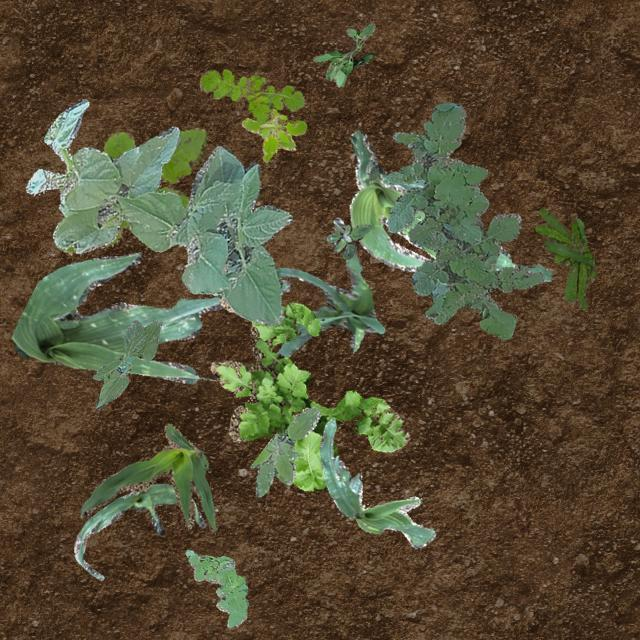crop: (25, 98, 292, 324), (11, 252, 290, 382), (348, 128, 550, 280), (318, 417, 434, 548), (276, 216, 384, 356), (78, 422, 218, 530), (72, 482, 204, 578), (91, 318, 160, 409)
weed: (210, 298, 408, 490), (386, 102, 544, 338), (54, 126, 206, 254), (248, 406, 320, 496), (534, 208, 596, 308), (200, 68, 304, 124), (185, 548, 248, 626), (312, 22, 374, 86), (240, 106, 306, 162), (326, 224, 370, 258)
